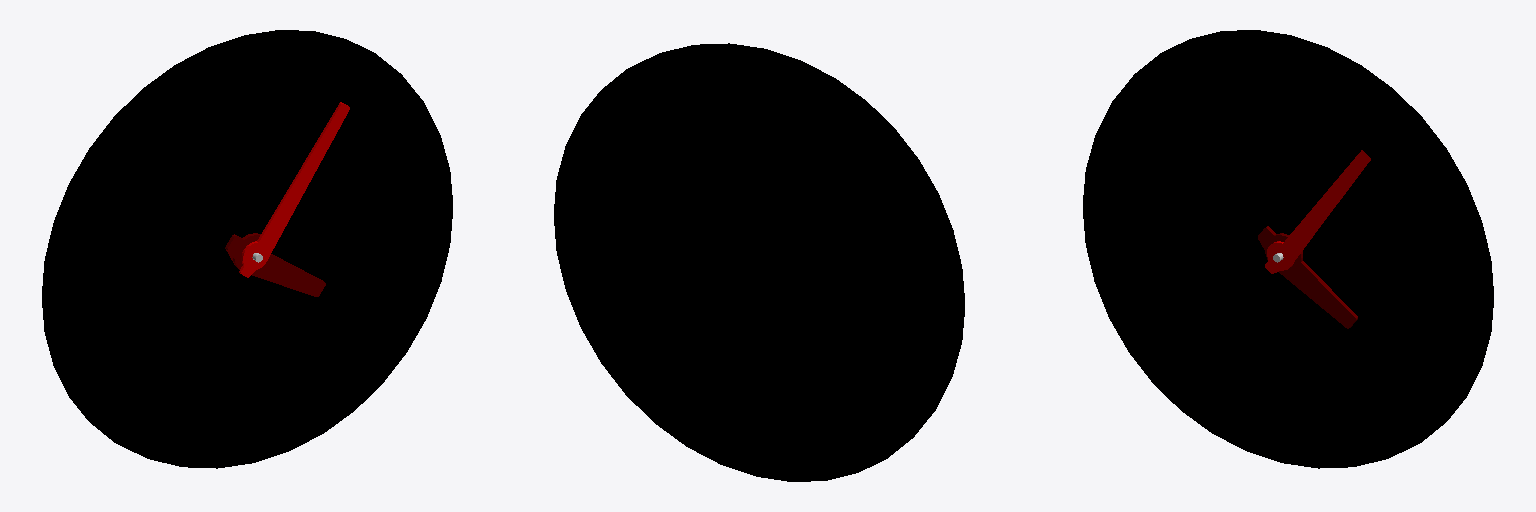
File: Clock_06.obj
3 renders of one model, left to right at view 1: azimuth 30°, elevation 25°; view 2: azimuth 150°, elevation 25°; view 3: azimuth 330°, elevation 25°, orthographic.
Visible parts, largest first — view 1: Wall_Clock:Mesh; view 2: Wall_Clock:Mesh; view 3: Wall_Clock:Mesh.
Boxes of the visible parts, <box> form: Wall_Clock:Mesh: <box>42,30,452,468</box>; Wall_Clock:Mesh: <box>554,43,964,481</box>; Wall_Clock:Mesh: <box>1083,30,1493,468</box>.
Size of the model in its own units: 30.26 by 30.27 by 3.13.